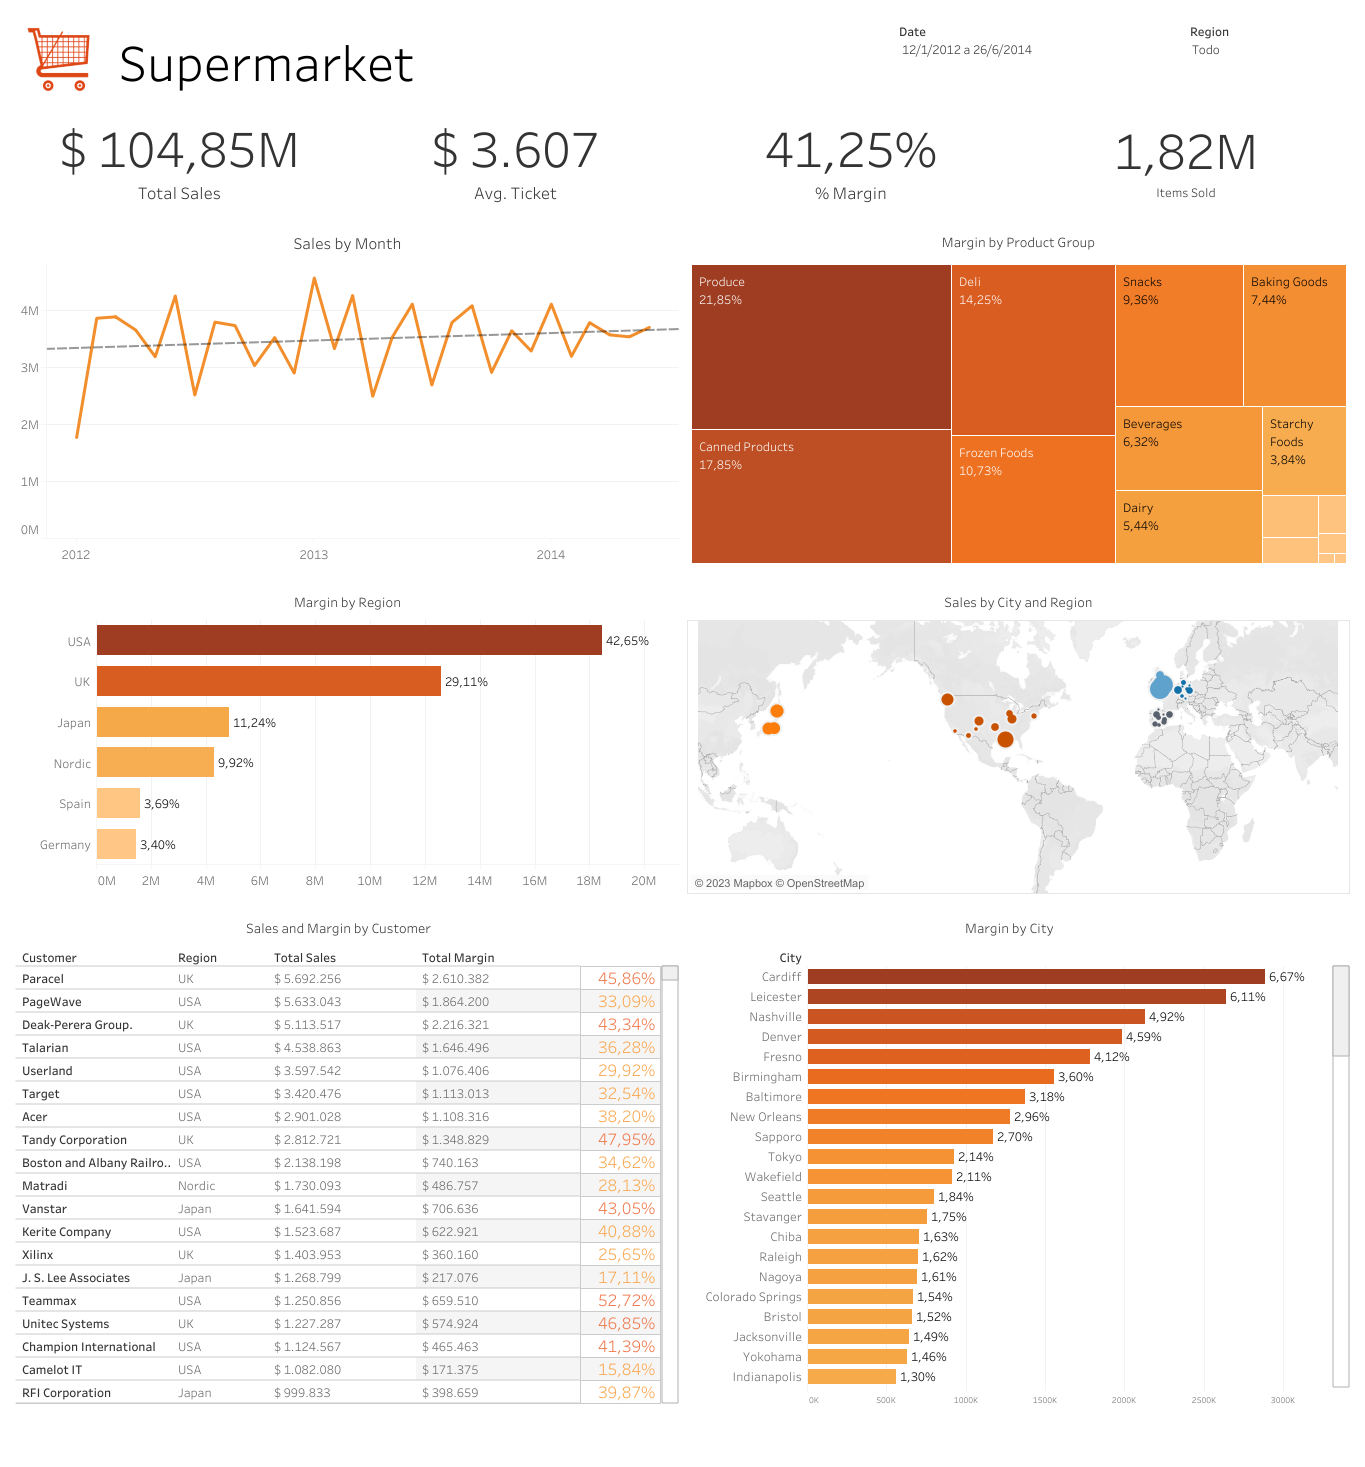

This screenshot's page, from the dashboard's own definition file:
{"tool":"powerbi","page":{"name":"Dashboard","canvas":[1280,1280],"ordinal":0},"visuals":[{"type":"textbox","box":[94.3,0,585.7,81.4],"z":0},{"type":"image","box":[0,0,94.6,95.6],"z":1000},{"type":"shape","box":[0,95.6,1280,112.7],"z":2000},{"type":"card","fields":{"Values":["measures_model.Total Sales"]},"box":[0,98.6,334.1,105.7],"z":3000},{"type":"card","fields":{"Values":["measures_model.Avg Ticket"]},"box":[334.1,98.6,305.9,105.7],"z":4000},{"type":"card","fields":{"Values":["measures_model.% Margin"]},"box":[640,98.6,305.9,105.7],"z":5000},{"type":"card","fields":{"Values":["measures_model.Quantity Sales"]},"box":[945.9,98.6,334.1,105.7],"z":6000},{"type":"slicer","fields":{"Values":["fact_sales.Date"]},"box":[640,0,306.2,95.1],"z":7000},{"type":"slicer","title":"Region","fields":{"Values":["dim_cities.Region"]},"box":[945.8,0,334.2,95.1],"z":8000},{"type":"lineChart","title":"Sales by Month","fields":{"Category":["fact_sales.Date.Variación.Jerarquía de fechas.Año","fact_sales.Date.Variación.Jerarquía de fechas.Mes"],"Y":["measures_model.Total Sales"]},"box":[0,211.4,640,230],"z":9000},{"type":"treemap","title":"Margin by Product Group","fields":{"Group":["dim_items_master.Product Group"],"Values":["measures_model.Total Margin"]},"box":[638.4,211.2,641.6,241.2],"z":10000},{"type":"barChart","title":"Margin by City","fields":{"Category":["dim_cities.City"],"Y":["measures_model.Total Margin"]},"box":[640,828.6,640,451.4],"z":11000},{"type":"tableEx","title":"Sales and Margin by Customer","fields":{"Values":["dim_customers.Customer","dim_cities.Region","measures_model.Total Sales","measures_model.Total Margin","measures_model.% Margin"]},"box":[0,828.6,638.6,451.4],"z":12000},{"type":"barChart","title":"Margin by Region","fields":{"Category":["dim_cities.Region"],"Y":["measures_model.Total Margin"]},"box":[0,451.4,638.6,370],"z":13000},{"type":"map","title":"Sales by City and Region","fields":{"Category":["dim_cities.City"],"Series":["dim_cities.Region"],"Size":["measures_model.Total Sales"]},"box":[637.1,451.4,642.9,370],"z":14000}]}

Visuals, with their boxes on the page's 1280x1280 design canvas (x1, y1, x2, y2). These are canvas units, not pixel positions in the 1365x1467 screenshot, which may show the page scaled, cropped or inside an application window:
textbox: (94, 0, 680, 81)
image: (0, 0, 95, 96)
shape: (0, 96, 1280, 208)
card - measures_model.Total Sales: (0, 99, 334, 204)
card - measures_model.Avg Ticket: (334, 99, 640, 204)
card - measures_model.% Margin: (640, 99, 946, 204)
card - measures_model.Quantity Sales: (946, 99, 1280, 204)
slicer - fact_sales.Date: (640, 0, 946, 95)
"Region" slicer: (946, 0, 1280, 95)
"Sales by Month" lineChart: (0, 211, 640, 441)
"Margin by Product Group" treemap: (638, 211, 1280, 452)
"Margin by City" barChart: (640, 829, 1280, 1280)
"Sales and Margin by Customer" tableEx: (0, 829, 639, 1280)
"Margin by Region" barChart: (0, 451, 639, 821)
"Sales by City and Region" map: (637, 451, 1280, 821)
